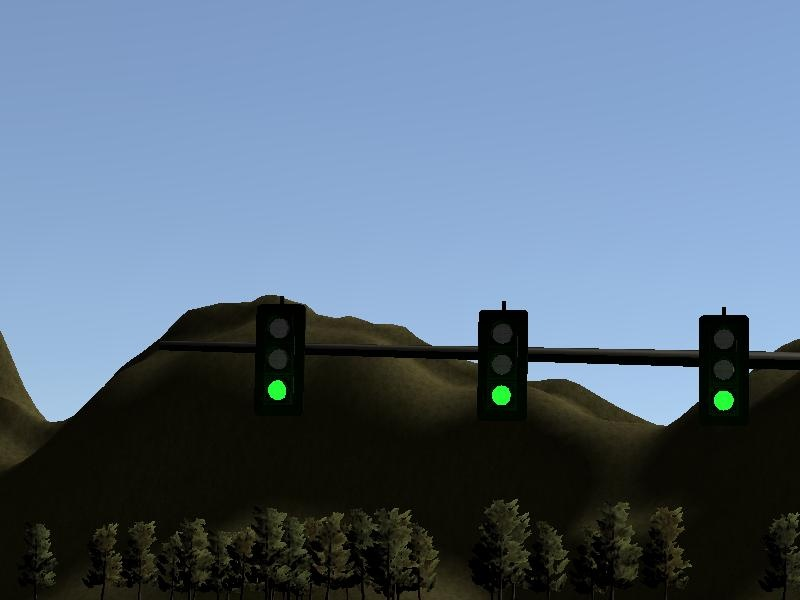GREEN: (474, 306, 533, 429), (251, 298, 308, 420), (696, 311, 752, 435)
